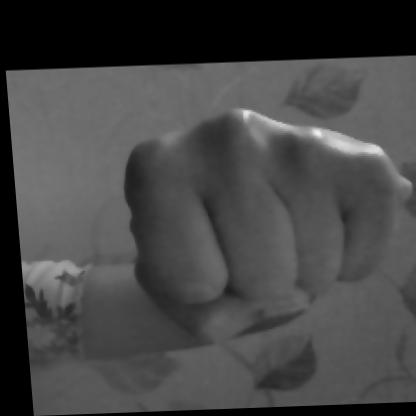fist: (63, 94, 415, 413)
